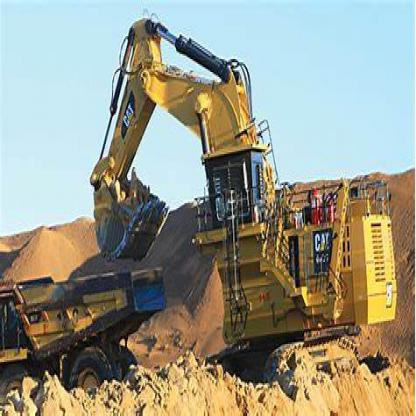excavator: (80, 12, 397, 400)
